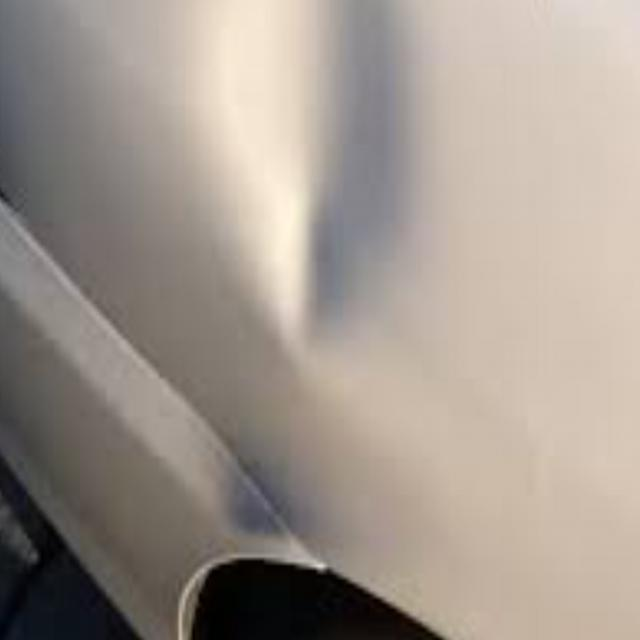dents: (188, 0, 416, 368)
